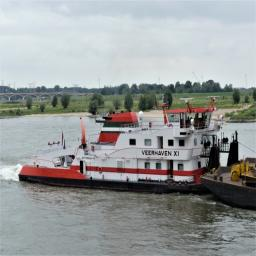tugboat: (18, 96, 242, 198)
